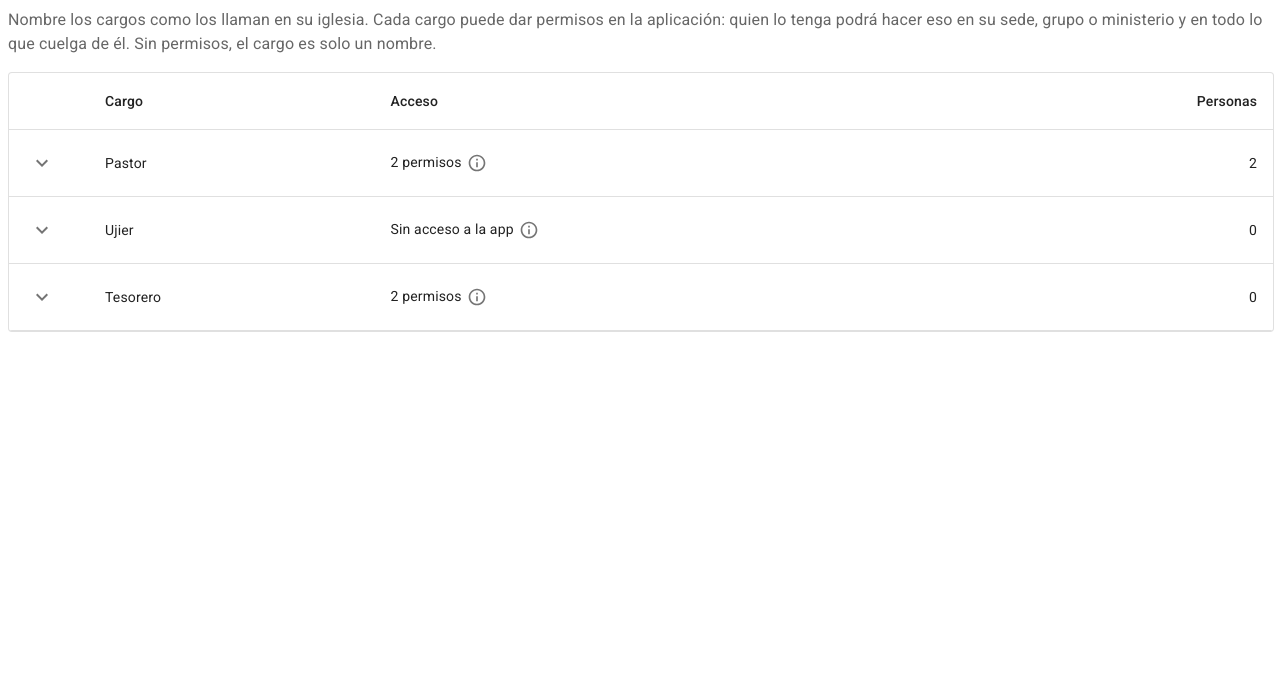
it: PositionsManager › is read-only without permission
This screenshot has width=1280, height=688.
Expected: the text "Pastor" is shown, [89,130,375,196]
Click the button named "Abrir Pastor" at (42, 163), box [25,146,59,180]
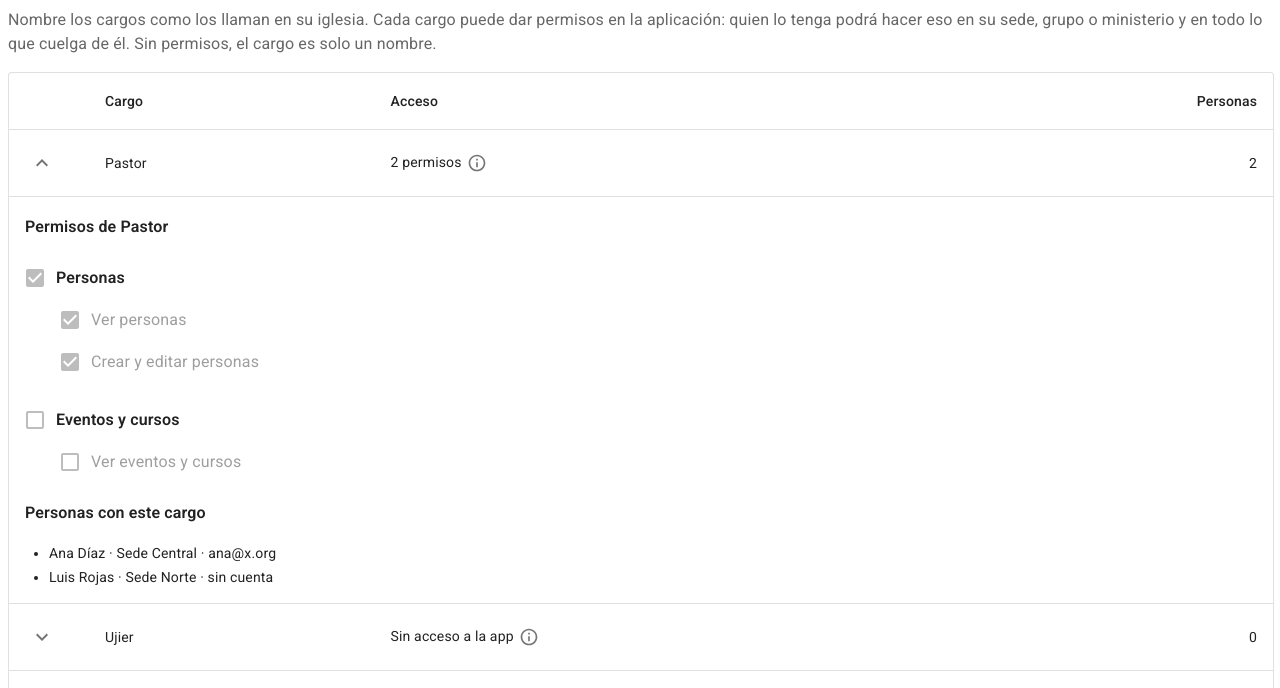
Now the checkbox labelled "Crear y editar personas" is disabled, box [58,350,259,374]
